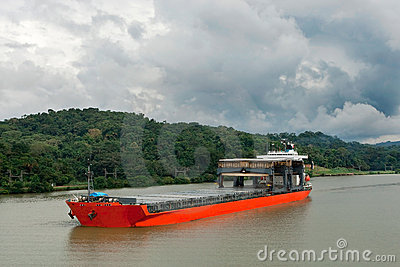boat: (77, 138, 313, 228)
